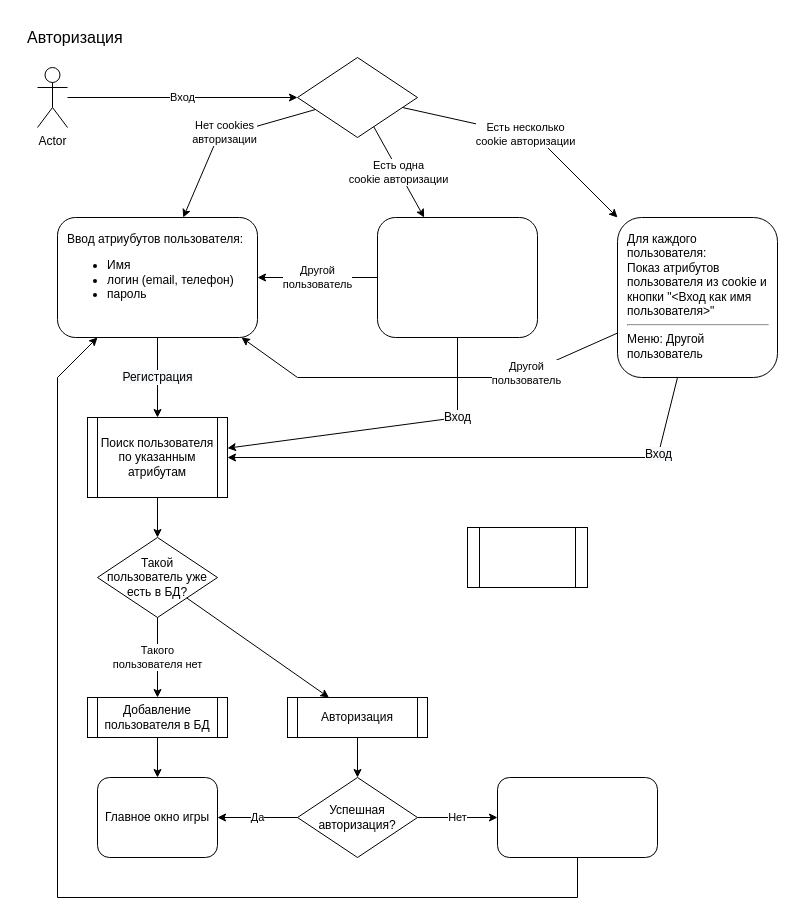
Image size: 795x923. Some labels were removed from this diagram. Each missing label, with the centre of its shape:
Есть cokies авторизации?: pixel 357 97
Запомнить куки: pixel 527 557
Показ атрибутов пользователя из cookie и кнопки "Вход" Меню: Другой пользователь: pixel 457 277
Сообщение: такой пользователь уже есть, укажите правильный пароль: pixel 577 817
